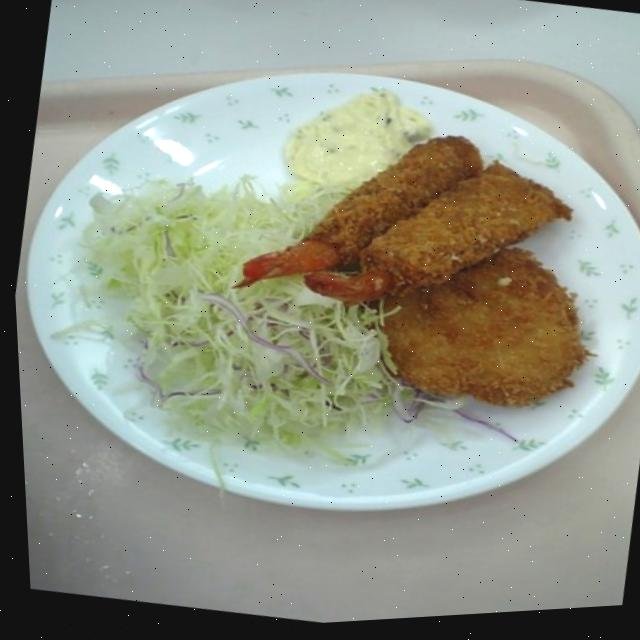炸货点心: (242, 90, 612, 350)
熟制海鲜: (242, 90, 612, 350)
